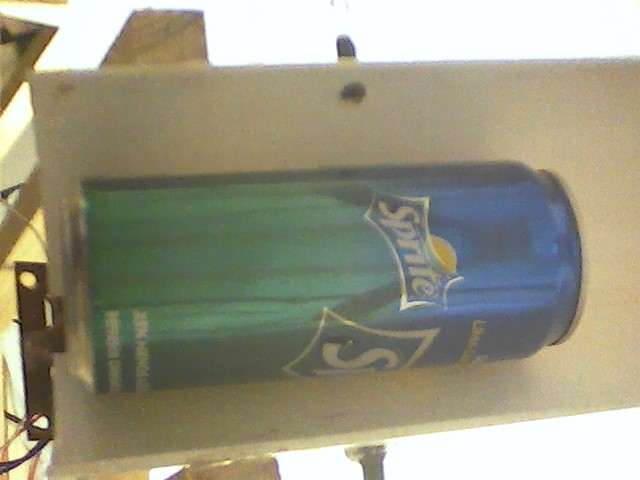lata: (51, 156, 597, 402)
